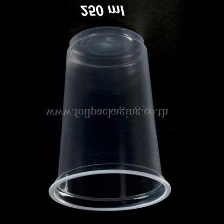glass: (45, 23, 174, 215)
